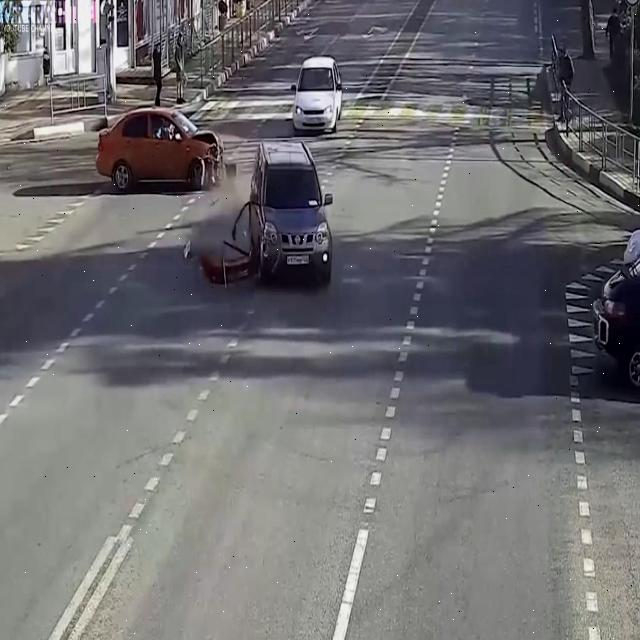accident: (189, 130, 347, 321), (90, 69, 236, 205)
